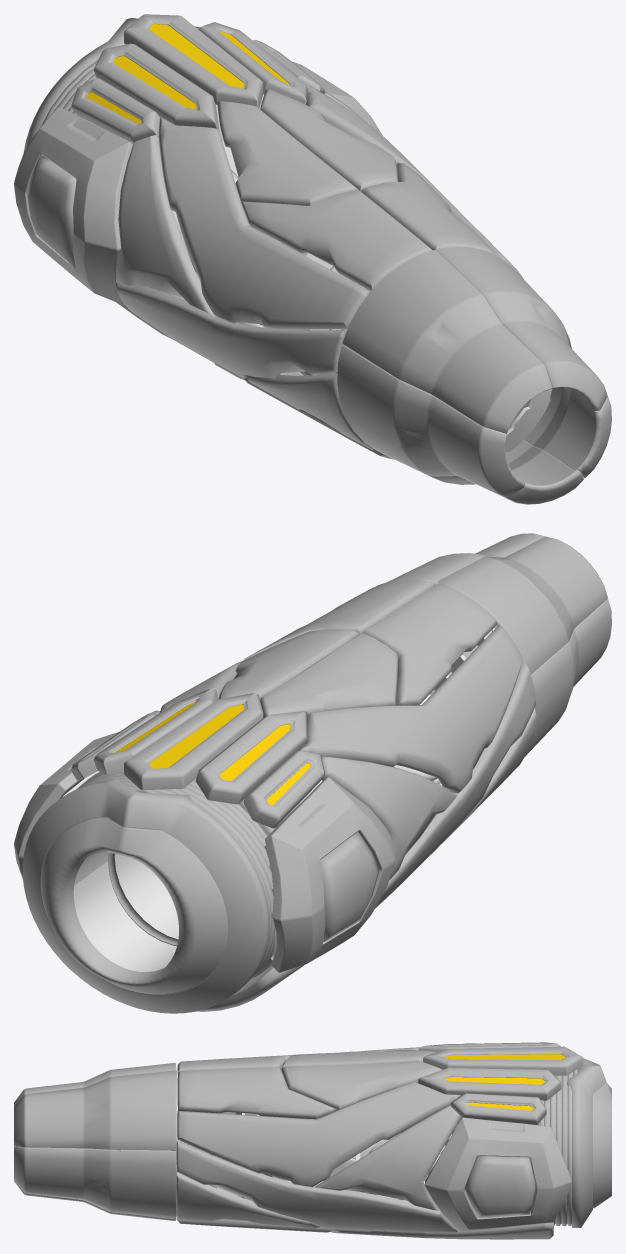
Rendered from Arm_Cannon_Low.fbx.
The picture shows the model from 3 angles, top to bottom: view 1: azimuth 30°, elevation 25°; view 2: azimuth 150°, elevation 25°; view 3: azimuth 270°, elevation 25°; orthographic projection. The views are drawn at different scales.
Visible parts, largest first — view 1: polySurface600, polySurface605, polySurface601, polySurface681, polySurface359, polySurface617, polySurface607, polySurface357, polySurface4, polySurface351, polySurface615, polySurface356 (+13 smaller); view 2: polySurface118, polySurface605, polySurface681, polySurface600, polySurface116, polySurface359, polySurface357, polySurface351, polySurface607, polySurface615, polySurface617, polySurface601 (+13 smaller); view 3: polySurface604, polySurface4, polySurface680, polySurface603, polySurface616, polySurface606, polySurface358, polySurface118, polySurface356, polySurface610, polySurface614, polySurface618 (+10 smaller).
Part boxes in pixels (x1,y1,x2,y2): polySurface600: (342,250,552,433); polySurface605: (158,116,370,328); polySurface601: (337,345,524,497); polySurface681: (14,107,132,306); polySurface359: (240,189,432,290); polySurface617: (117,283,346,378); polySurface607: (116,135,214,316); polySurface357: (217,101,358,205); polySurface4: (437,246,607,410); polySurface351: (124,14,263,107); polySurface615: (93,43,219,131); polySurface356: (260,89,398,191); polySurface118: (22,778,269,1013); polySurface605: (299,625,523,793); polySurface681: (265,777,394,972); polySurface600: (437,536,607,674); polySurface116: (73,852,178,971); polySurface359: (362,584,497,705); polySurface357: (260,633,398,717); polySurface351: (124,693,263,790); polySurface607: (321,756,456,880); polySurface615: (195,711,307,804); polySurface617: (375,662,536,908); polySurface601: (525,599,611,756); polySurface604: (177,1082,461,1187); polySurface4: (14,1070,176,1150); polySurface680: (425,1117,571,1231); polySurface603: (14,1146,176,1219); polySurface616: (176,1140,459,1232); polySurface606: (315,1105,461,1211); polySurface358: (177,1067,337,1119); polySurface118: (567,1055,611,1227); polySurface356: (281,1061,442,1109); polySurface610: (464,1156,535,1218); polySurface614: (418,1068,561,1100); polySurface618: (176,1172,321,1227).
Size of the model in its own units: 0.0241 by 0.0184 by 0.058.
